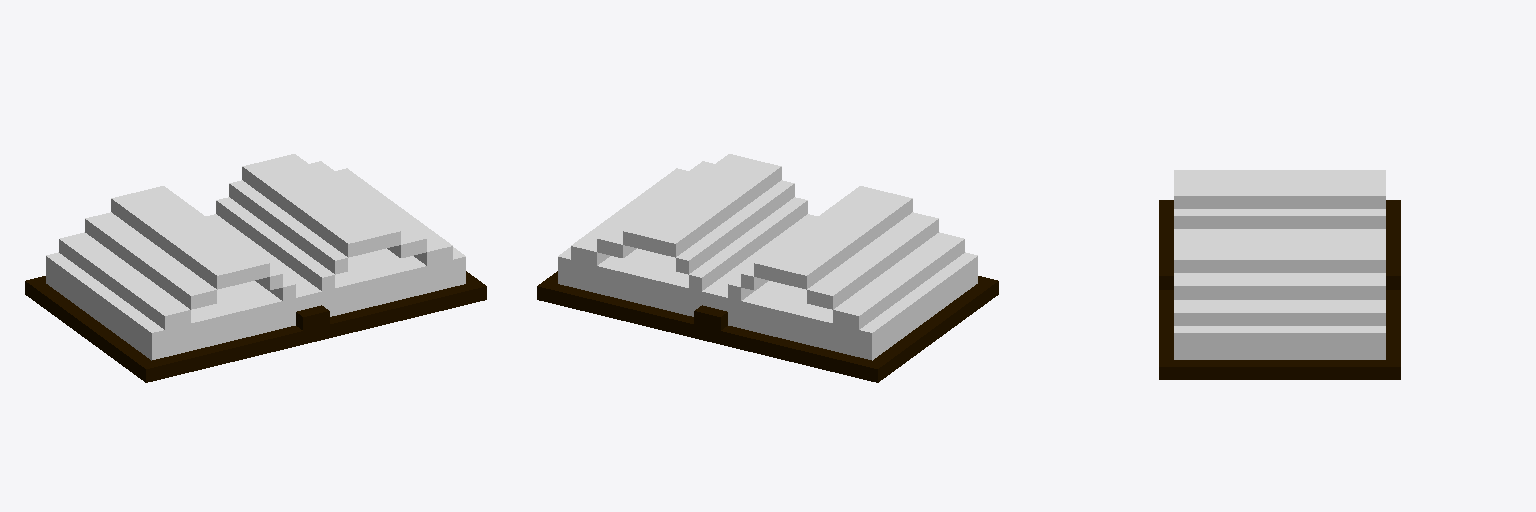
The picture shows the model from 3 angles: view 1: azimuth 30°, elevation 25°; view 2: azimuth 150°, elevation 25°; view 3: azimuth 270°, elevation 25°; orthographic projection.
Parts seen in each view (by area): view 1: object 1; view 2: object 1; view 3: object 1.
Boxes of the visible parts, x1=… form: object 1: x1=25, y1=154, x2=486, y2=382; object 1: x1=537, y1=154, x2=998, y2=382; object 1: x1=1159, y1=170, x2=1400, y2=379.
Bounding box in the file's own units: 2.6 × 0.6 × 1.6.
1 materials, 1 textured.